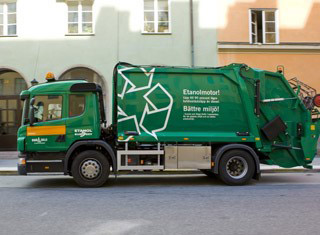garbagetruck: (18, 62, 301, 181)
